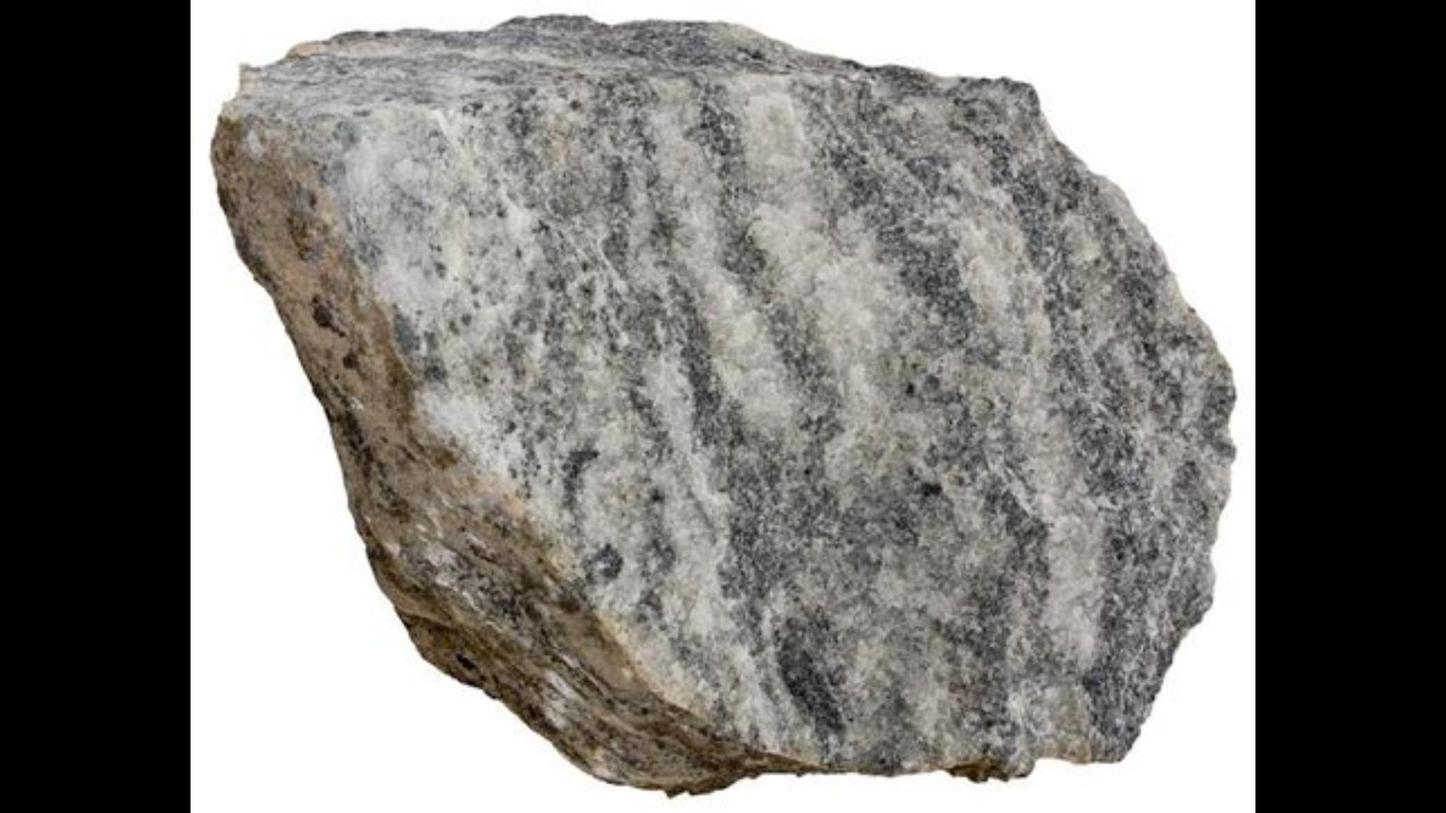rock: (215, 18, 1231, 786)
